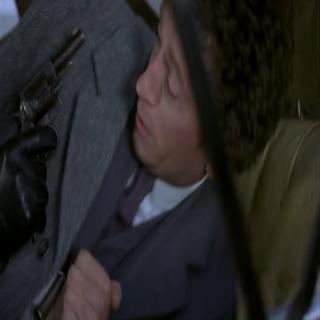gun: (12, 26, 89, 221)
